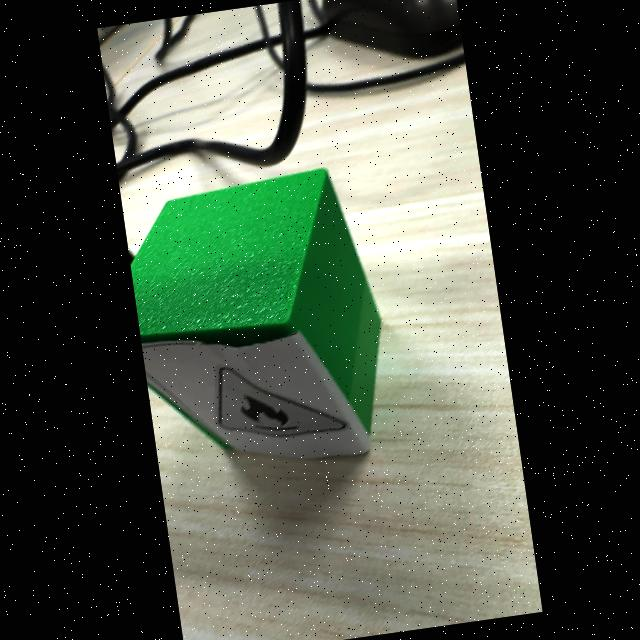Fire: (218, 368, 347, 439)
